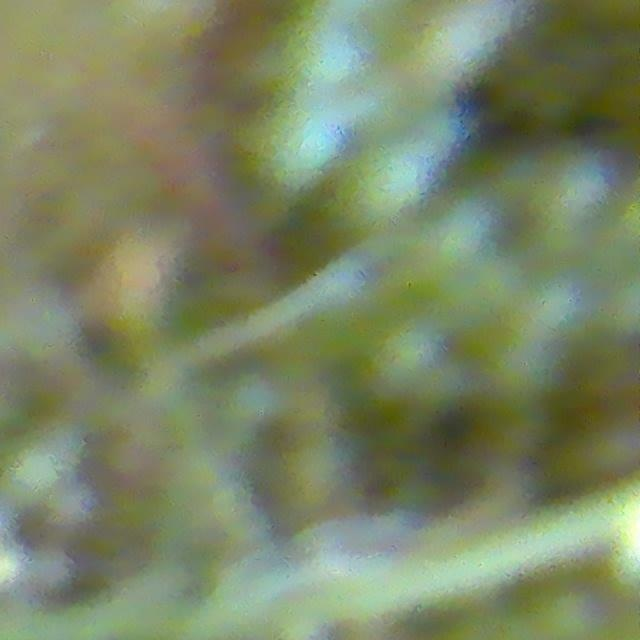SeaGrape: (245, 100, 343, 195), (363, 315, 455, 416), (528, 144, 620, 239), (338, 141, 432, 231), (516, 268, 602, 353), (417, 194, 500, 279), (218, 366, 290, 435), (532, 585, 603, 640), (603, 267, 639, 340)
